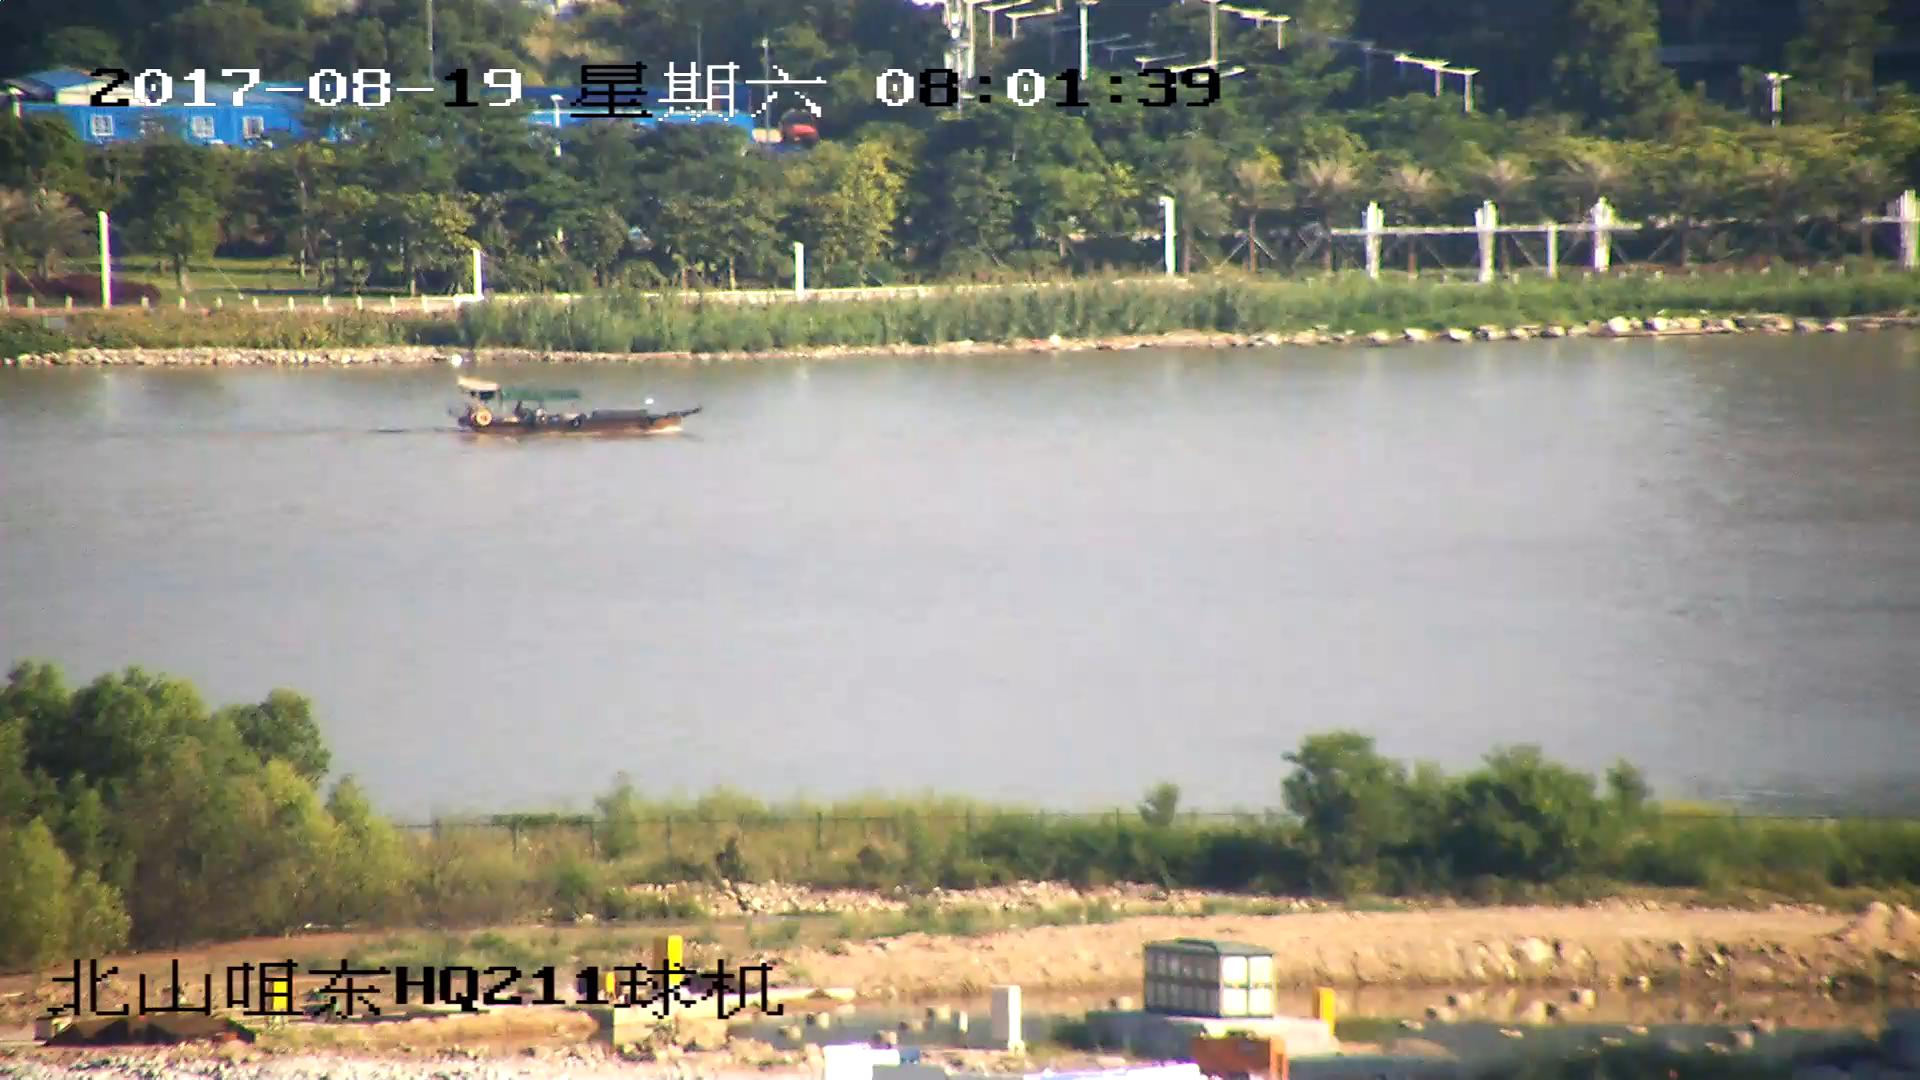fishing boat: (451, 375, 706, 439)
